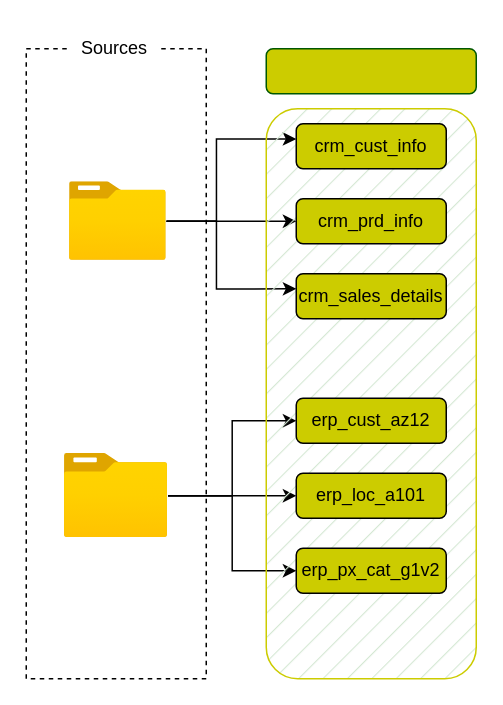
Some shapes in this 503 by 705 pixel diagram are drawn without their labels. The shapes that lost their labels are listed below. From the top down, each one's box as (x1, y1, x2, y2) in pixels, then its label:
(265, 47, 476, 94): Bronze layer
(69, 181, 166, 260): CRM
(64, 453, 167, 537): ERP
